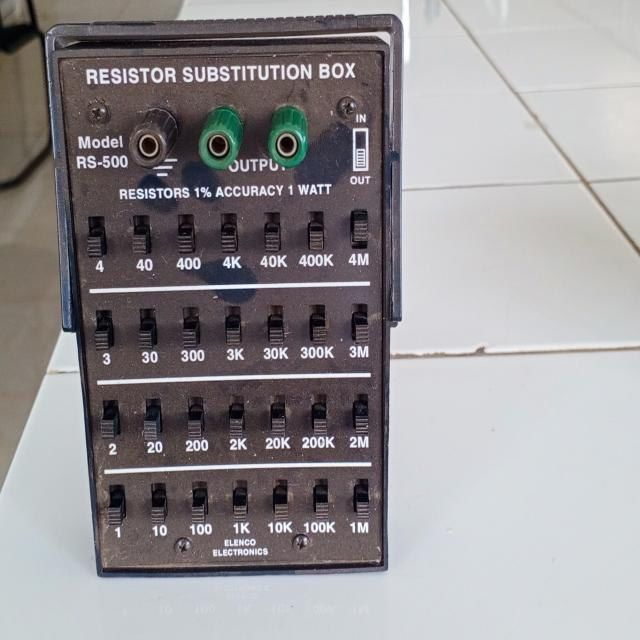Set of Resistances: (41, 1, 407, 586)
